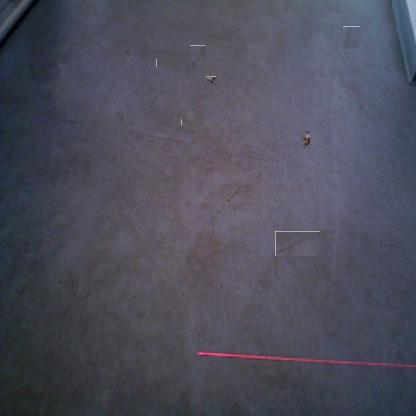dirty: (302, 132, 310, 146), (208, 75, 215, 83)
mark: (208, 172, 262, 226), (275, 231, 320, 256), (342, 26, 360, 49), (190, 45, 206, 68), (116, 112, 128, 124), (143, 46, 151, 55), (122, 48, 130, 56), (156, 59, 161, 67), (190, 128, 196, 134), (181, 119, 186, 125), (224, 94, 230, 99), (188, 84, 192, 88)
